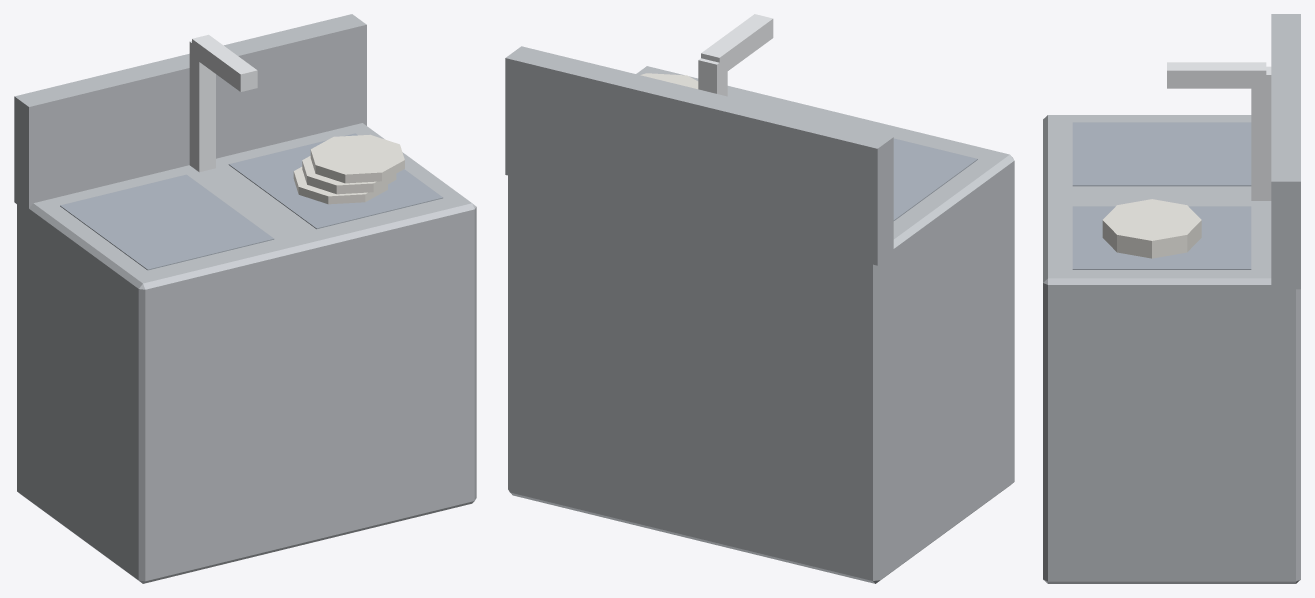
File: DishSink.fbx
The picture shows the model from 3 angles, left to right: view 1: azimuth 30°, elevation 25°; view 2: azimuth 150°, elevation 25°; view 3: azimuth 270°, elevation 25°; orthographic projection. The views are drawn at different scales.
Parts seen in each view (by area): view 1: DishSink; view 2: DishSink; view 3: DishSink.
Part boxes in pixels (x1=…): DishSink: x1=14, y1=14, x2=476, y2=583; DishSink: x1=505, y1=14, x2=1014, y2=583; DishSink: x1=1043, y1=14, x2=1300, y2=583.
Bounding box in the file's own units: 4 × 4.85 × 2.6.
Materials: 1 (1 with a texture image).
